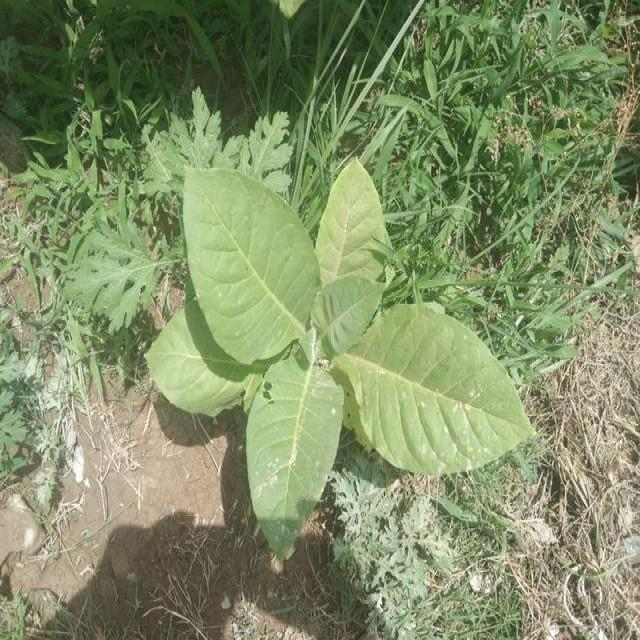crop: (144, 157, 534, 560)
